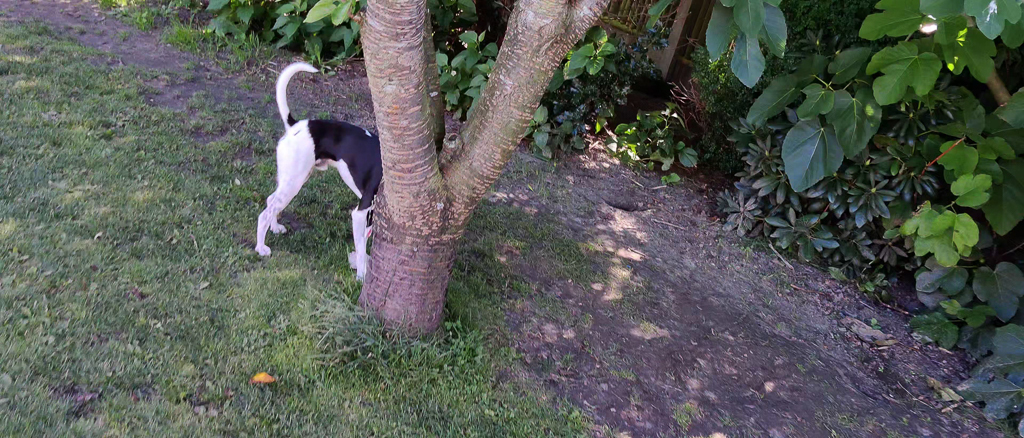Dog: (236, 59, 407, 290)
